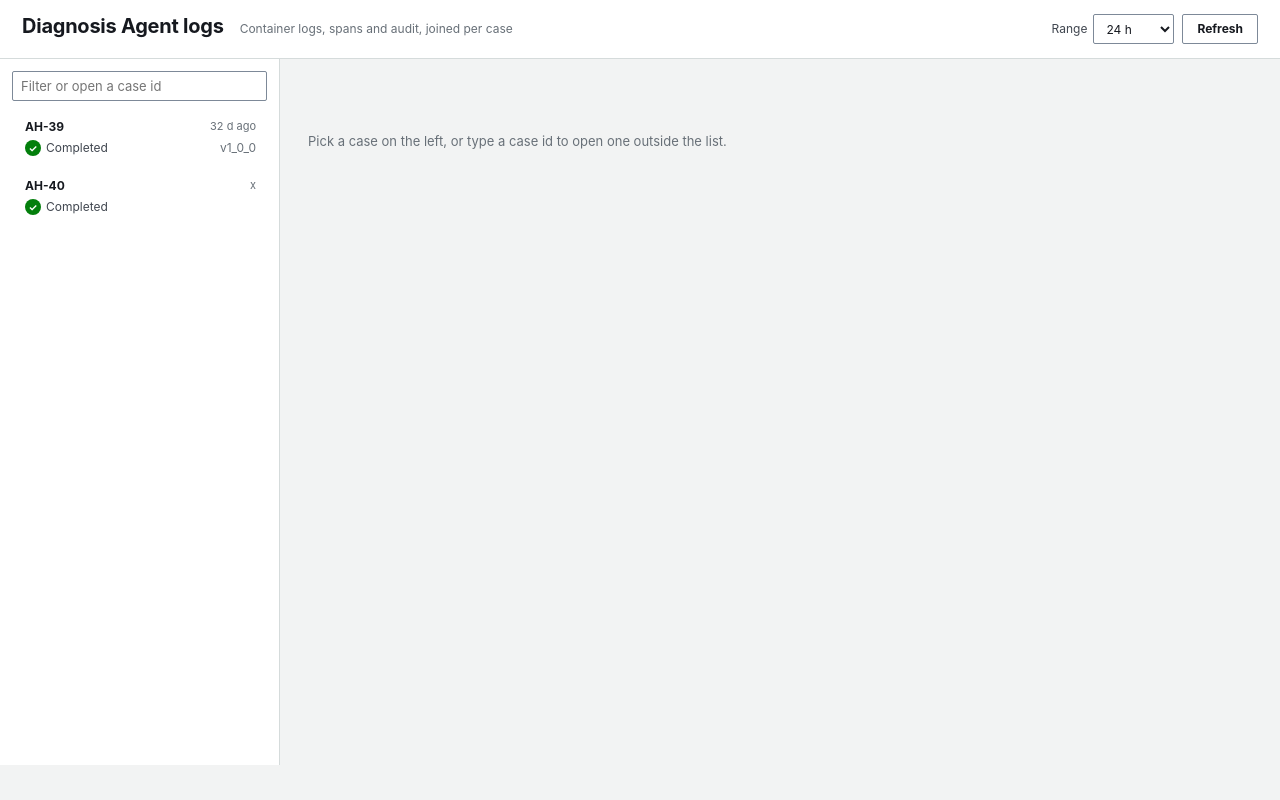
it: a case handled by a release cohort shows its release in the list and on its request
The image size is (1280, 800).
Check: the text titled "Release cohort" reads "v1_0_0", box [220, 140, 256, 155]
What coordinates should you click on to do the following:
click the button "AH-39 32 d ago ✓ Completed v1_0_0"
I would click on:
 (140, 137)
Its box is [12, 109, 267, 166].
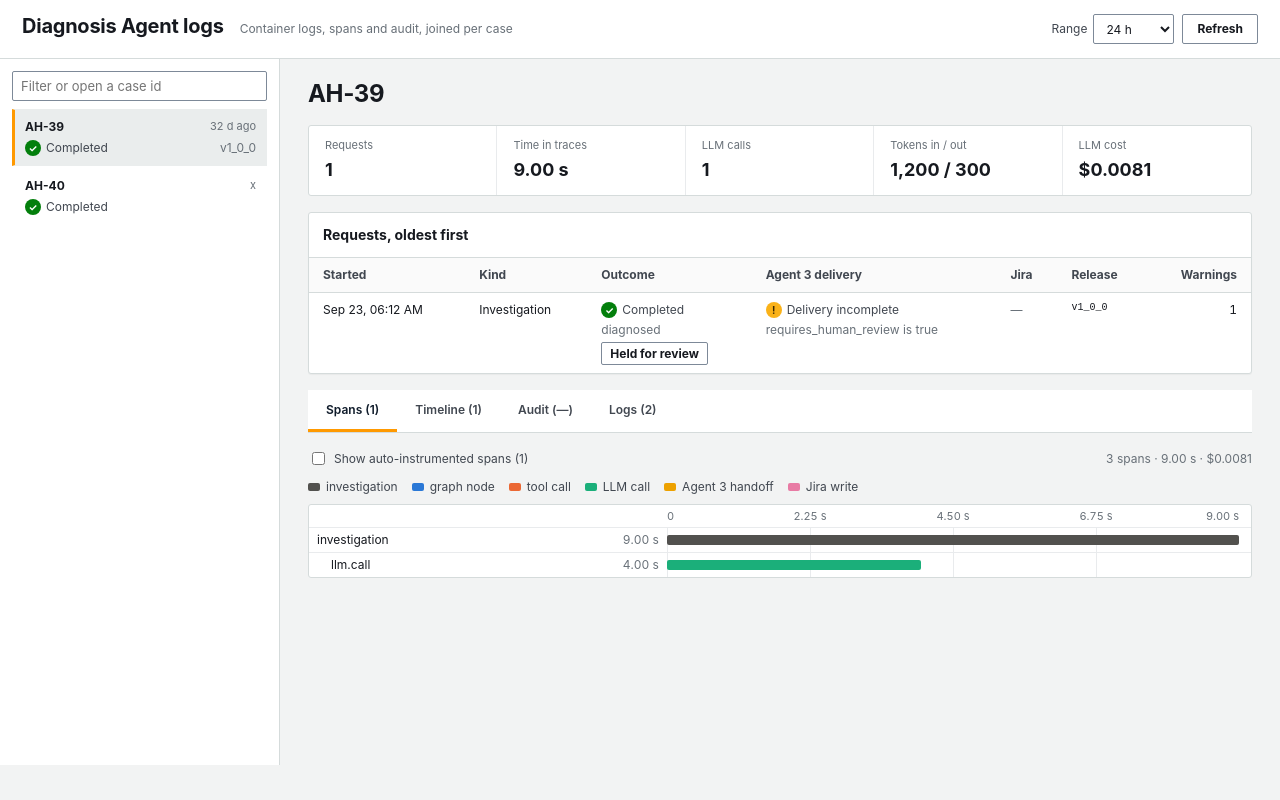
Check: the column heading "Release" is shown, box [1057, 258, 1148, 292]
Check: the text "v1_0_0" in the row of "Sep 23, 06:12 AM" is shown, box [1071, 302, 1107, 313]
